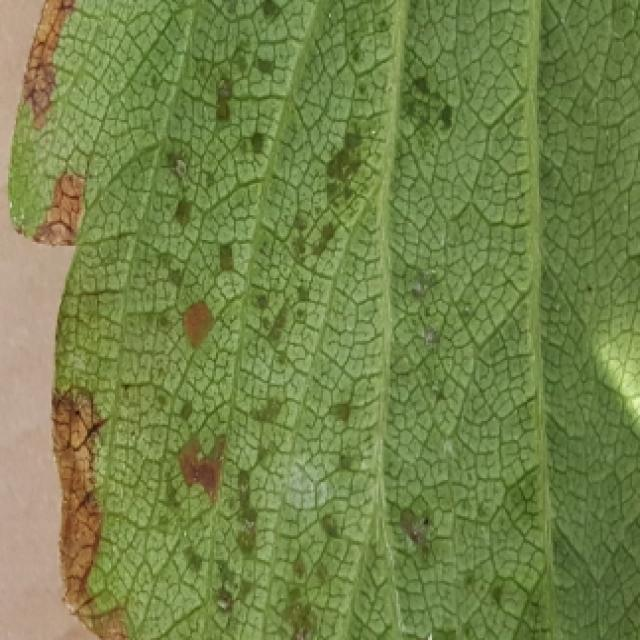Angular Leafspot: (6, 0, 555, 640)
